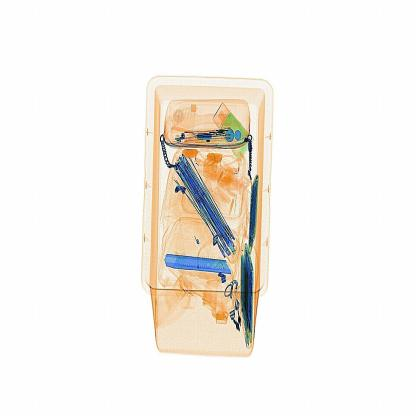pliers: (161, 253, 230, 279)
